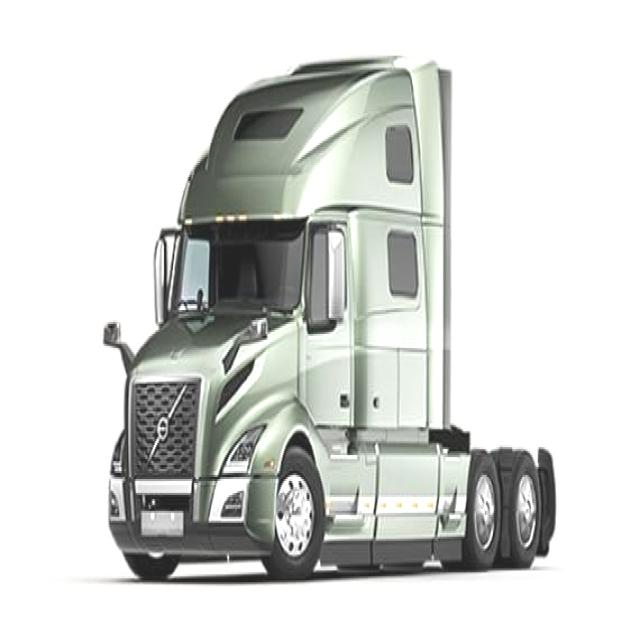Truck: (98, 64, 586, 578)
